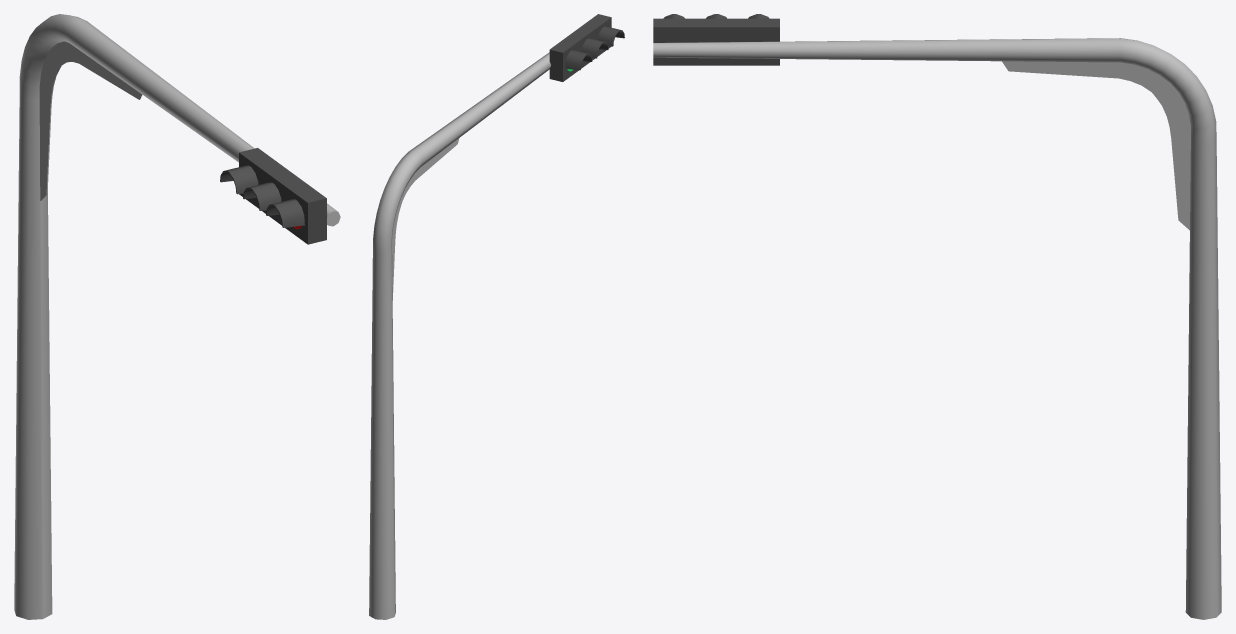
File: trafficlight4car.fbx
3 renders of one model, left to right at view 1: azimuth 30°, elevation 25°; view 2: azimuth 150°, elevation 25°; view 3: azimuth 270°, elevation 25°, orthographic. The views are drawn at different scales.
Visible parts, largest first — view 1: TrafficLight4Car, pCube413, pCube411, pCube409, pCube412, pCube408, pCube410; view 2: TrafficLight4Car, pCube409, pCube413, pCube411, pCube408; view 3: TrafficLight4Car, pCube413, pCube411, pCube409.
Boxes of the visible parts, <box> form: TrafficLight4Car: <box>14,14,340,619</box>; pCube413: <box>285,181,326,244</box>; pCube411: <box>262,164,303,225</box>; pCube409: <box>239,148,280,208</box>; pCube412: <box>266,199,304,227</box>; pCube408: <box>220,165,258,194</box>; pCube410: <box>243,182,281,210</box>; TrafficLight4Car: <box>369,52,550,619</box>; pCube409: <box>549,38,579,81</box>; pCube413: <box>582,14,611,56</box>; pCube411: <box>566,26,595,68</box>; pCube408: <box>565,50,592,70</box>; TrafficLight4Car: <box>653,38,1221,619</box>; pCube413: <box>653,18,695,65</box>; pCube411: <box>695,18,737,65</box>; pCube409: <box>737,18,779,65</box>.
Bounding box in the file's own units: 56.57 × 532 × 471.
